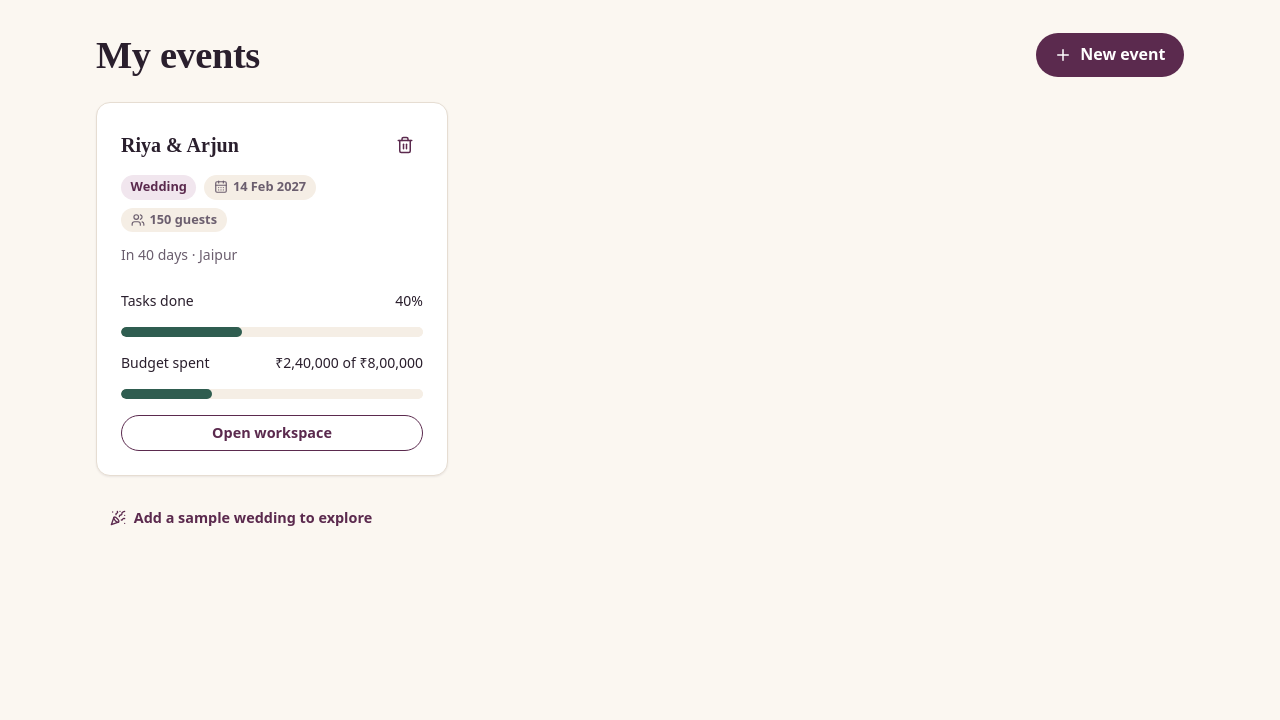
Test: DashboardPage › reports a failed delete
Click the button named "Delete Riya & Arjun". click: (405, 145)
box: [387,127,423,163]
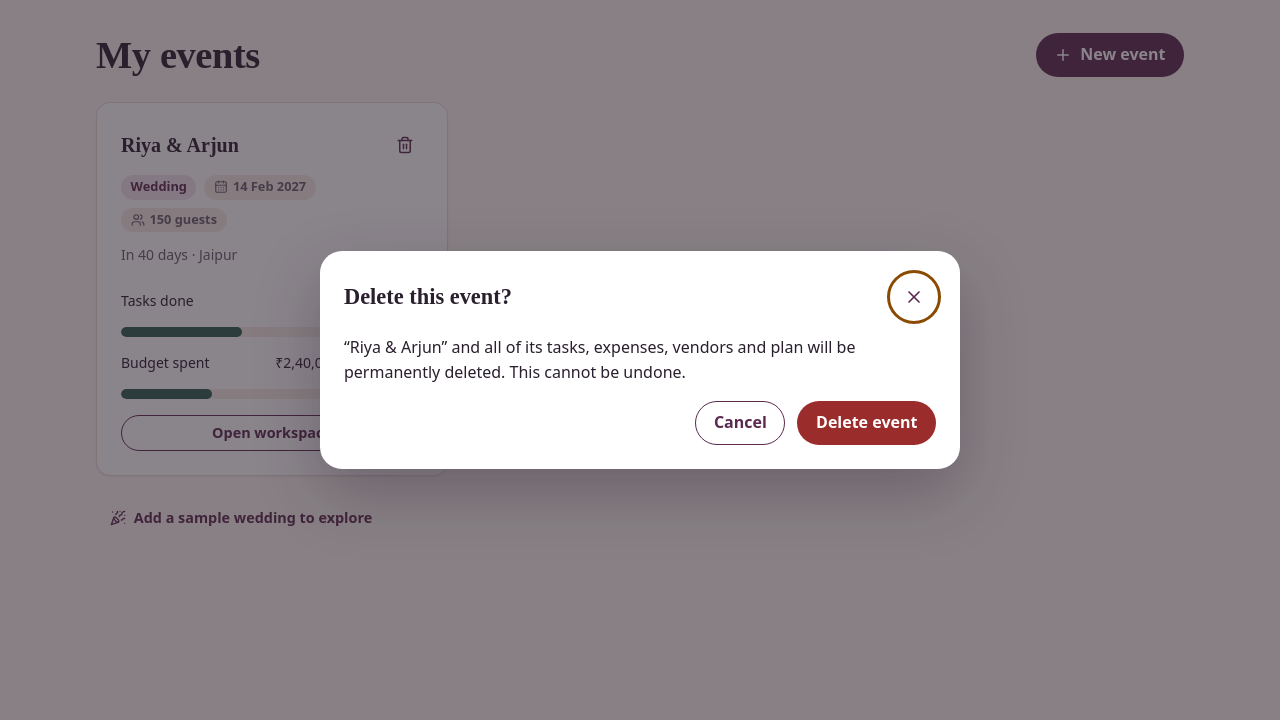
Click the button "Delete event". click: (867, 423)
box: [798,401,936,445]
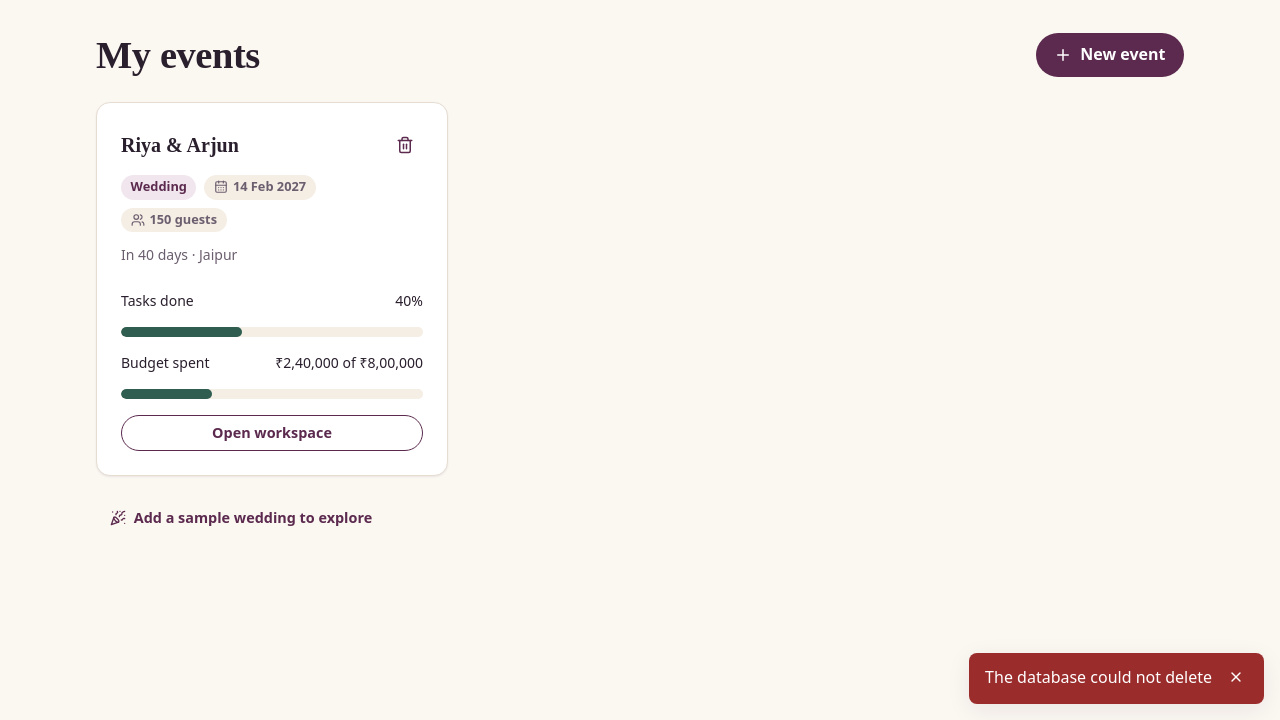
Expected: the text "The database could not delete" is shown, [985,665,1212,690]
